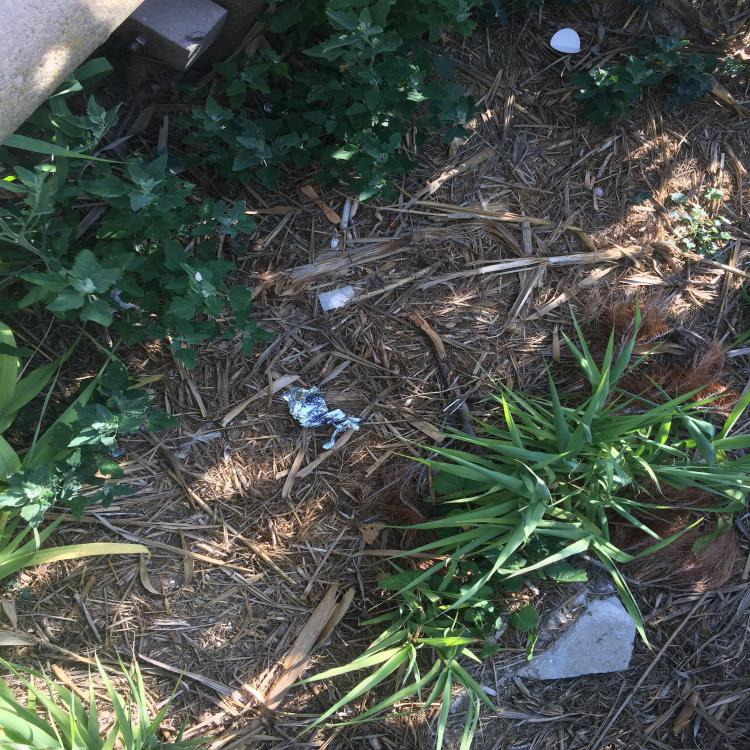Other plastic: (282, 386, 364, 450)
Other plastic wrapper: (550, 28, 581, 52)
Unlabeled litter: (109, 424, 146, 458)
